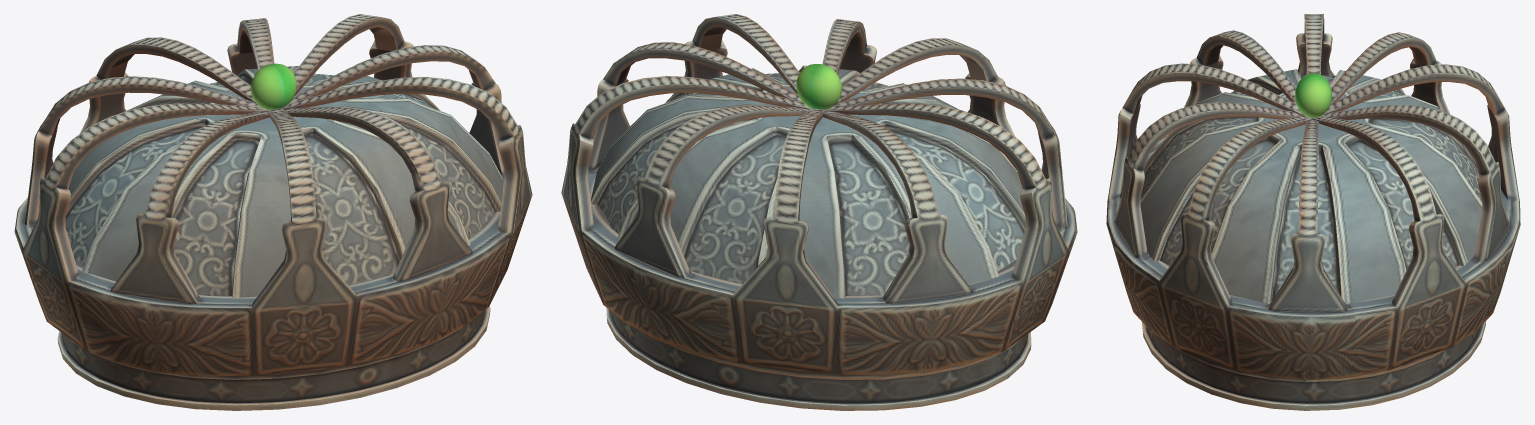
File: SM_Big_Crown_Bronze.fbx
The picture shows the model from 3 angles, left to right: view 1: azimuth 30°, elevation 25°; view 2: azimuth 150°, elevation 25°; view 3: azimuth 270°, elevation 25°; orthographic projection. The views are drawn at different scales.
Visible parts, largest first — view 1: SM_Big_Crown_Bronze_LOD0; view 2: SM_Big_Crown_Bronze_LOD0; view 3: SM_Big_Crown_Bronze_LOD0.
Boxes of the visible parts, bbox=[...] form: SM_Big_Crown_Bronze_LOD0: bbox=[14, 14, 532, 410]; SM_Big_Crown_Bronze_LOD0: bbox=[561, 14, 1077, 410]; SM_Big_Crown_Bronze_LOD0: bbox=[1106, 14, 1520, 410].
Bounding box in the file's own units: 24.59 × 20.23 × 13.33.
2 materials, 2 textured.
